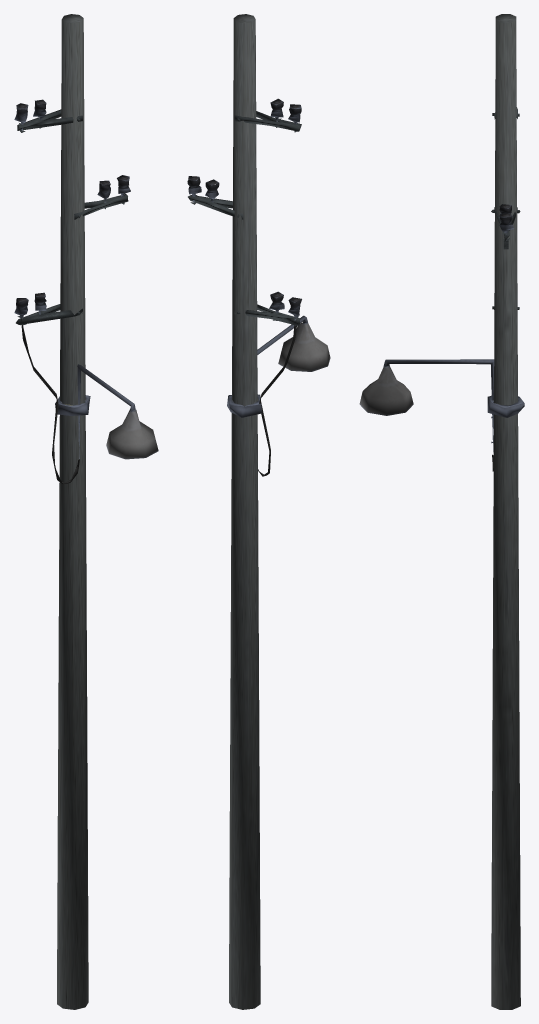
File: pole_concrete_b_lod_2.glb
3 views of the same model, side by side, from view 1: azimuth 30°, elevation 25°; view 2: azimuth 150°, elevation 25°; view 3: azimuth 270°, elevation 25° (orthographic).
Visible parts, largest first — view 1: pole_concrete_b_lod_2; view 2: pole_concrete_b_lod_2; view 3: pole_concrete_b_lod_2.
Boxes of the visible parts, x1,y1,x2,y2 form: pole_concrete_b_lod_2: (14,14,158,1009); pole_concrete_b_lod_2: (187,14,330,1009); pole_concrete_b_lod_2: (359,14,524,1009).
Bounding box in the file's own units: 1.23 × 10.2 × 1.55.
Materials: 2 (2 with a texture image).
